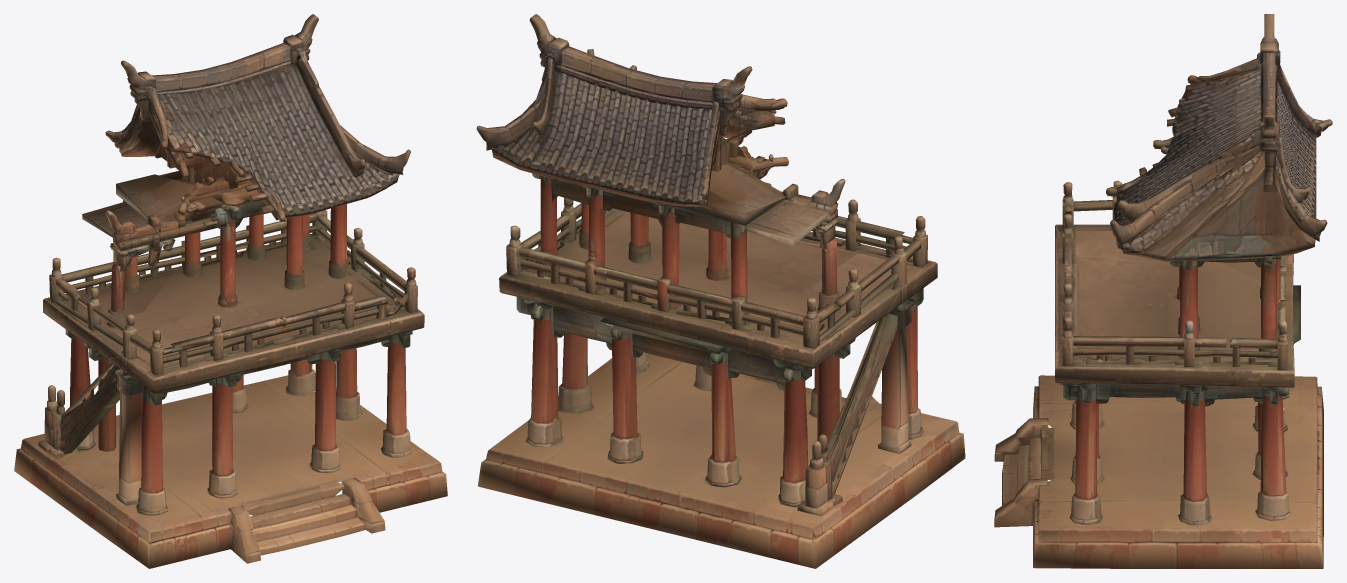
The model's file is SM_Tripo_DesertCrescentPavilion.glb.
3 views of the same model, side by side, from view 1: azimuth 30°, elevation 25°; view 2: azimuth 150°, elevation 25°; view 3: azimuth 270°, elevation 25° (orthographic). The views are drawn at different scales.
Parts seen in each view (by area): view 1: SM_Tripo_DesertCrescentPavilion_LOD0; view 2: SM_Tripo_DesertCrescentPavilion_LOD0; view 3: SM_Tripo_DesertCrescentPavilion_LOD0.
Boxes of the visible parts, <box> form: SM_Tripo_DesertCrescentPavilion_LOD0: <box>14,14,447,568</box>; SM_Tripo_DesertCrescentPavilion_LOD0: <box>476,14,965,568</box>; SM_Tripo_DesertCrescentPavilion_LOD0: <box>994,14,1332,568</box>.
Size of the model in its own units: 8.53 by 11 by 7.63.
1 material, 1 textured.
